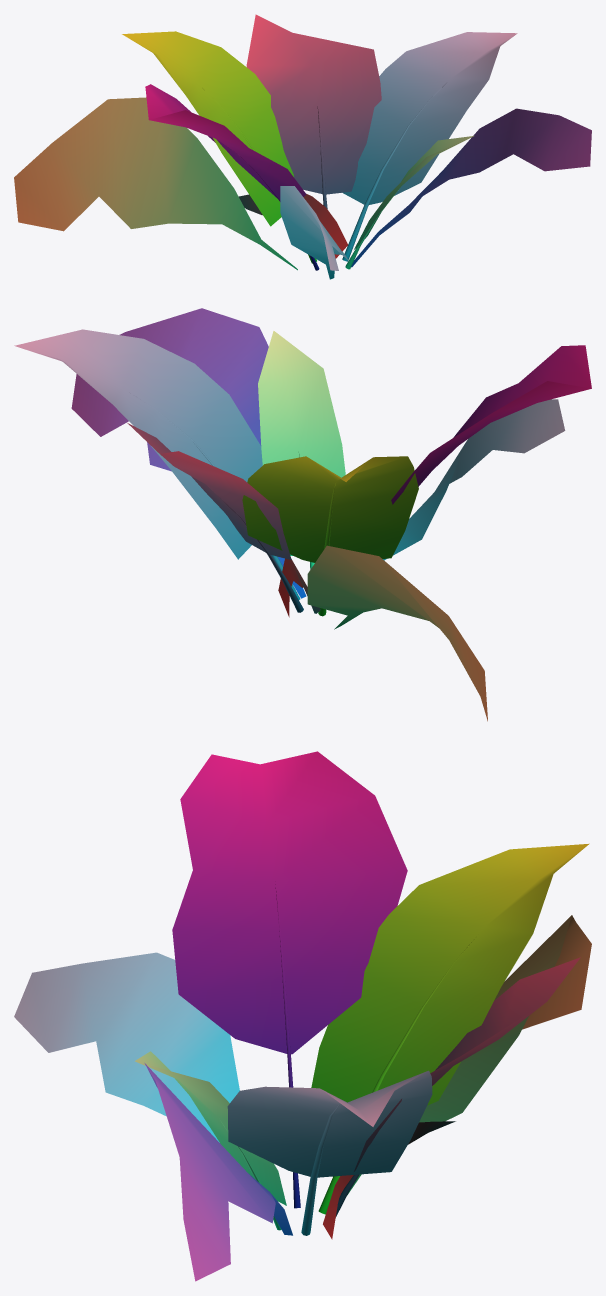
Rendered from Lady_Fern_wdvlditia_Mid_wdvlditia_VarB_LOD0.fbx.
The picture shows the model from 3 angles, top to bottom: view 1: azimuth 30°, elevation 25°; view 2: azimuth 150°, elevation 25°; view 3: azimuth 270°, elevation 25°; orthographic projection. The views are drawn at different scales.
Parts seen in each view (by area): view 1: _wuzq_VarB_LOD2; view 2: _wuzq_VarB_LOD2; view 3: _wuzq_VarB_LOD2.
Boxes of the visible parts, x1,y1,x2,y2 form: _wuzq_VarB_LOD2: [14, 14, 591, 279]; _wuzq_VarB_LOD2: [14, 308, 591, 721]; _wuzq_VarB_LOD2: [14, 751, 591, 1281].
Size of the model in its own units: 87.34 by 42.23 by 64.05.
